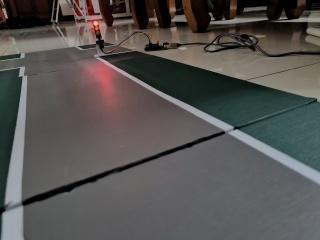red: (90, 15, 109, 45)
